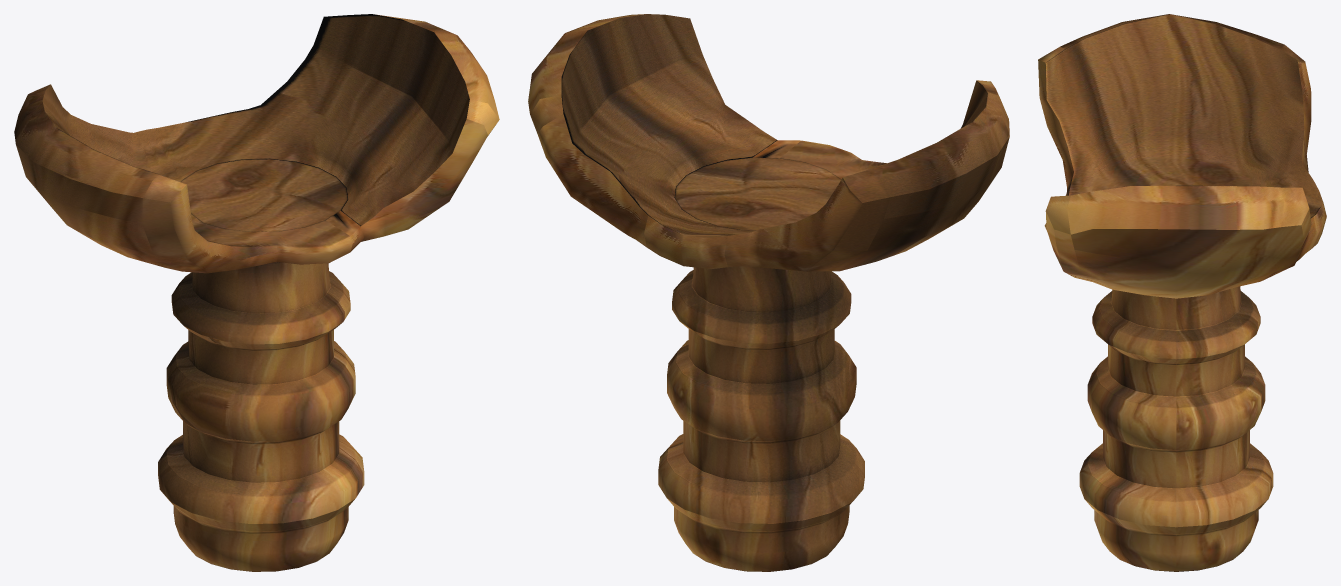
Rendered from Stand.fbx.
3 views of the same model, side by side, from view 1: azimuth 30°, elevation 25°; view 2: azimuth 150°, elevation 25°; view 3: azimuth 270°, elevation 25° (orthographic). The views are drawn at different scales.
Parts seen in each view (by area): view 1: pCylinder2; view 2: pCylinder2; view 3: pCylinder2.
Boxes of the visible parts, bbox=[...] form: pCylinder2: bbox=[14, 14, 499, 571]; pCylinder2: bbox=[528, 14, 1009, 571]; pCylinder2: bbox=[1038, 14, 1326, 571].
Size of the model in its own units: 10.27 by 10.37 by 6.23.
1 material, 1 textured.
